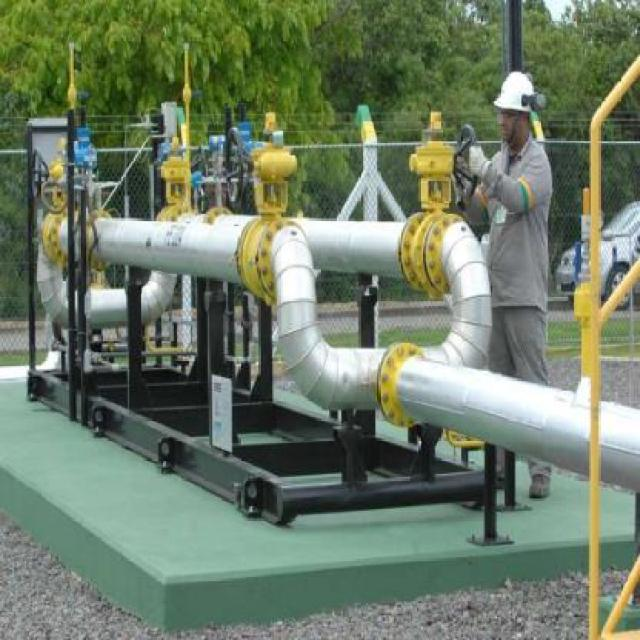gas: (389, 353, 636, 493), (270, 222, 381, 418), (57, 207, 266, 295), (422, 219, 492, 372), (315, 210, 437, 282)
